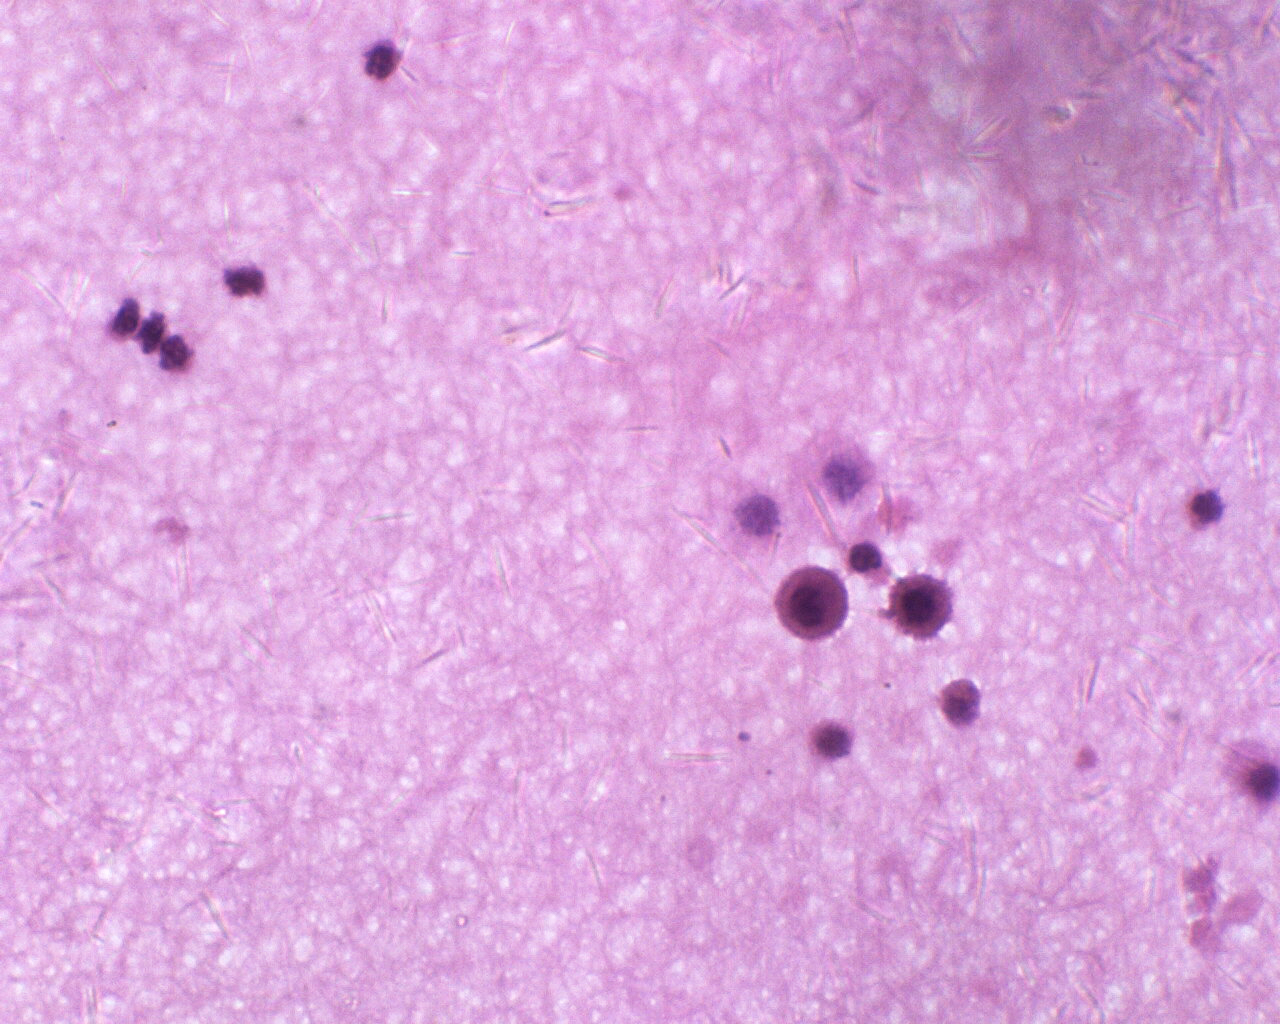meso: (770, 558, 851, 647), (884, 572, 964, 644)
